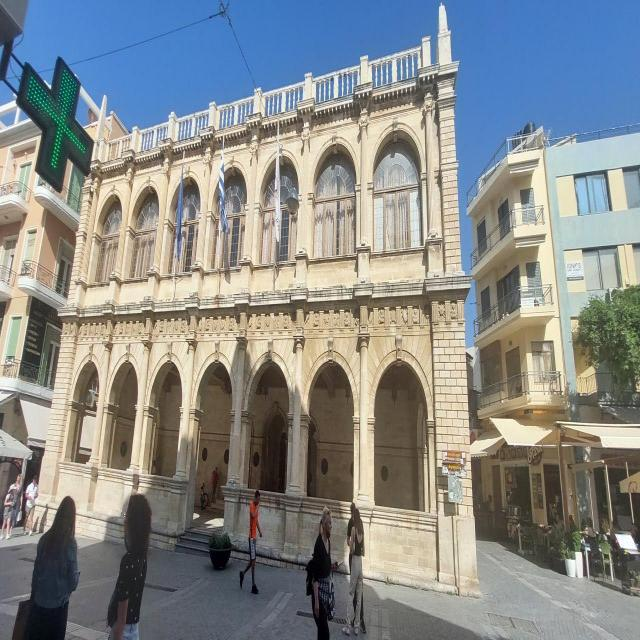Loggia: (29, 1, 485, 607)
